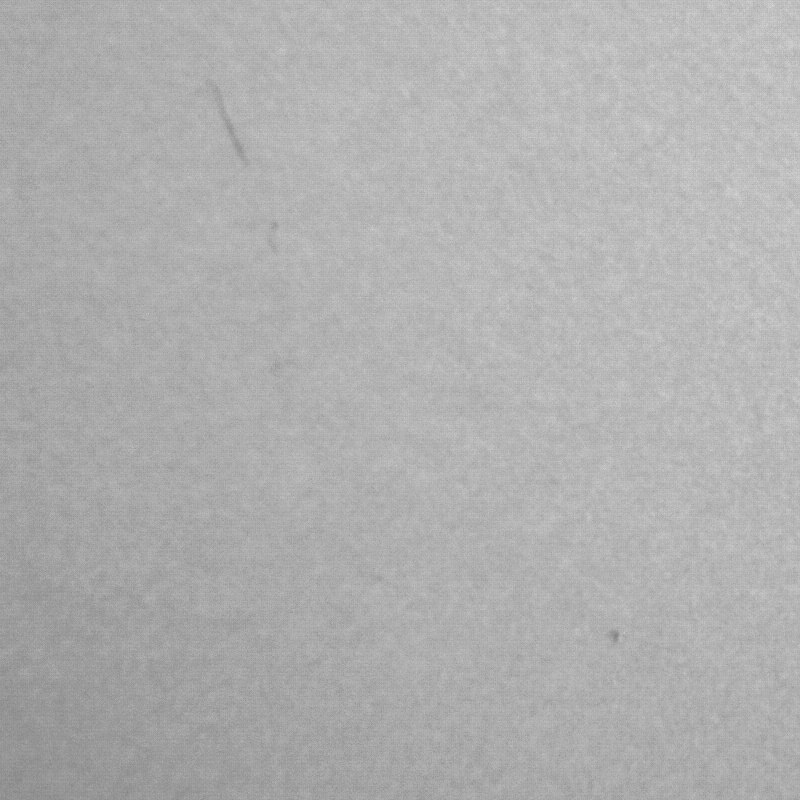defect: (201, 79, 262, 168), (269, 219, 288, 262), (603, 629, 623, 646)
